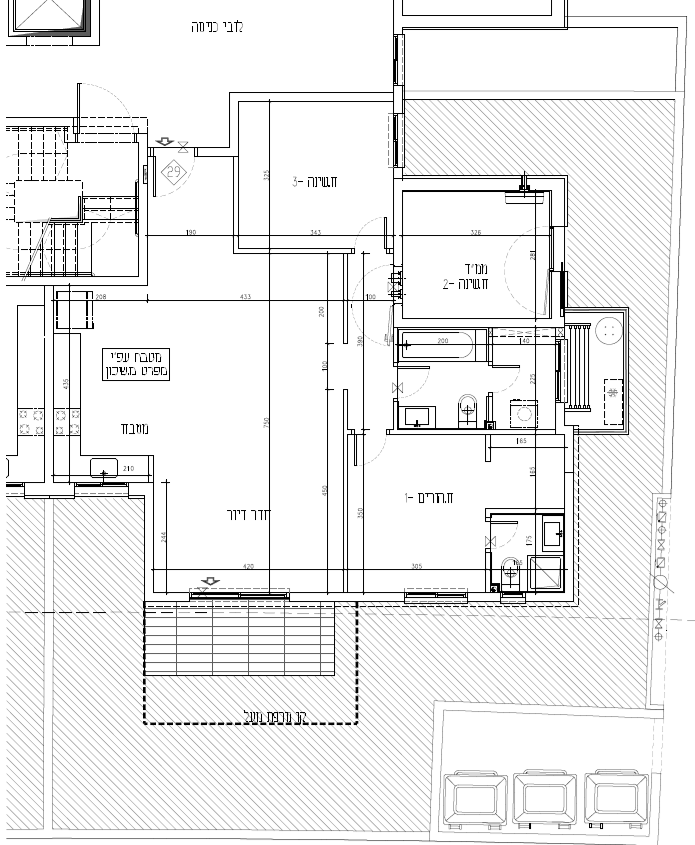door: (69, 70, 139, 113), (402, 363, 438, 401), (492, 357, 523, 397)
